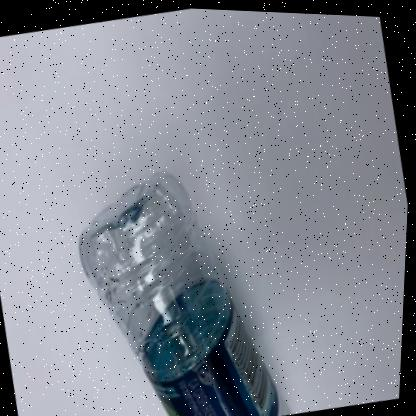Plastic: (80, 172, 295, 416)
